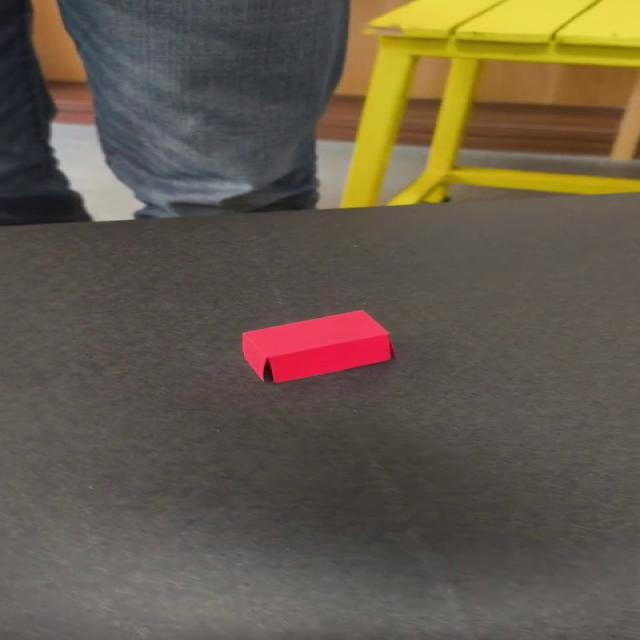red block: (240, 308, 395, 384)
